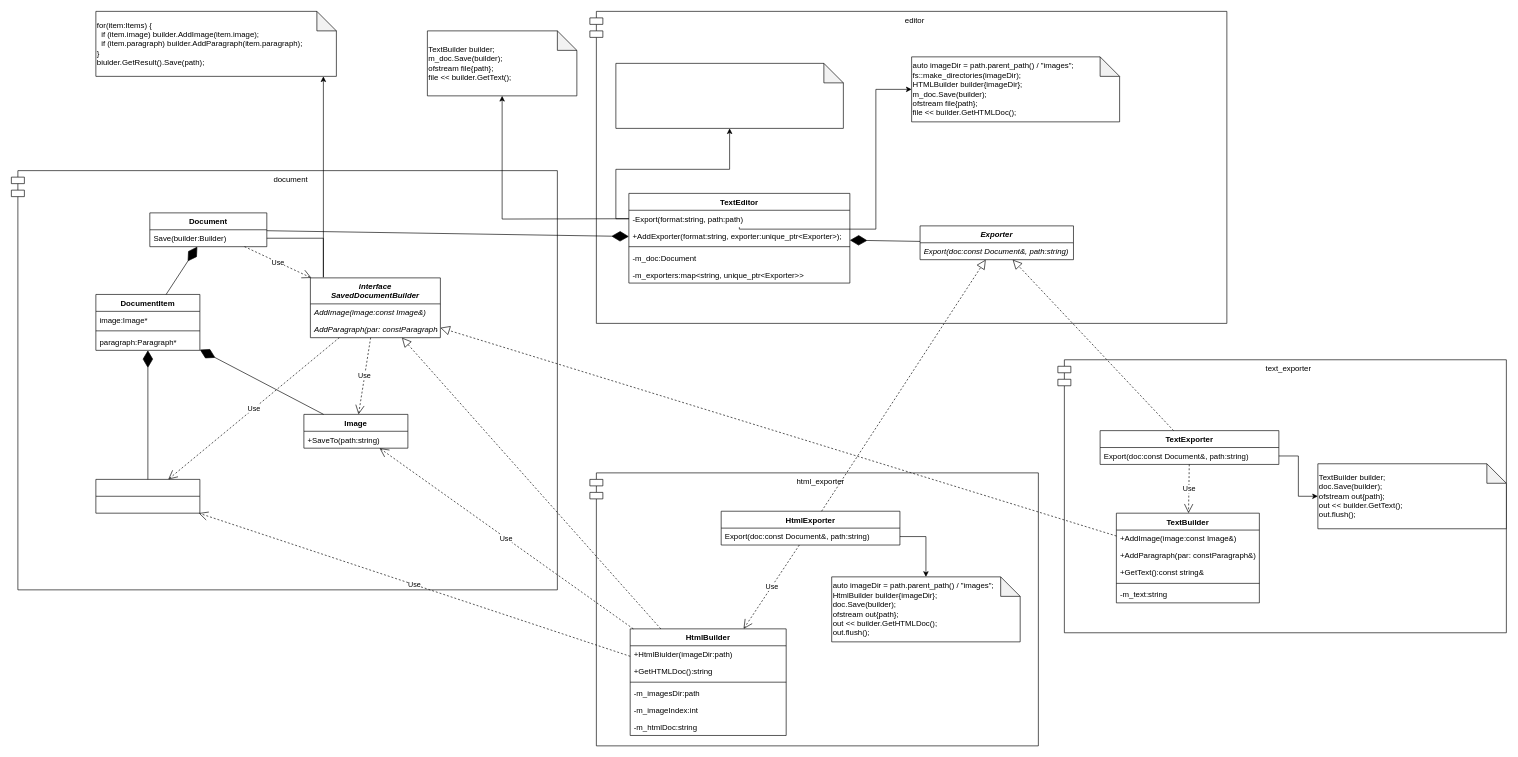
The diagram is 1518 pixels wide and 757 high, and some of its shapes have lost their labels. Each missing label, with the centre of its shape:
auto& exporter = *m_exporters.at(format);; exporter.Export(m_doc. path);: pixel 729 95
Paragraph: pixel 147 496
